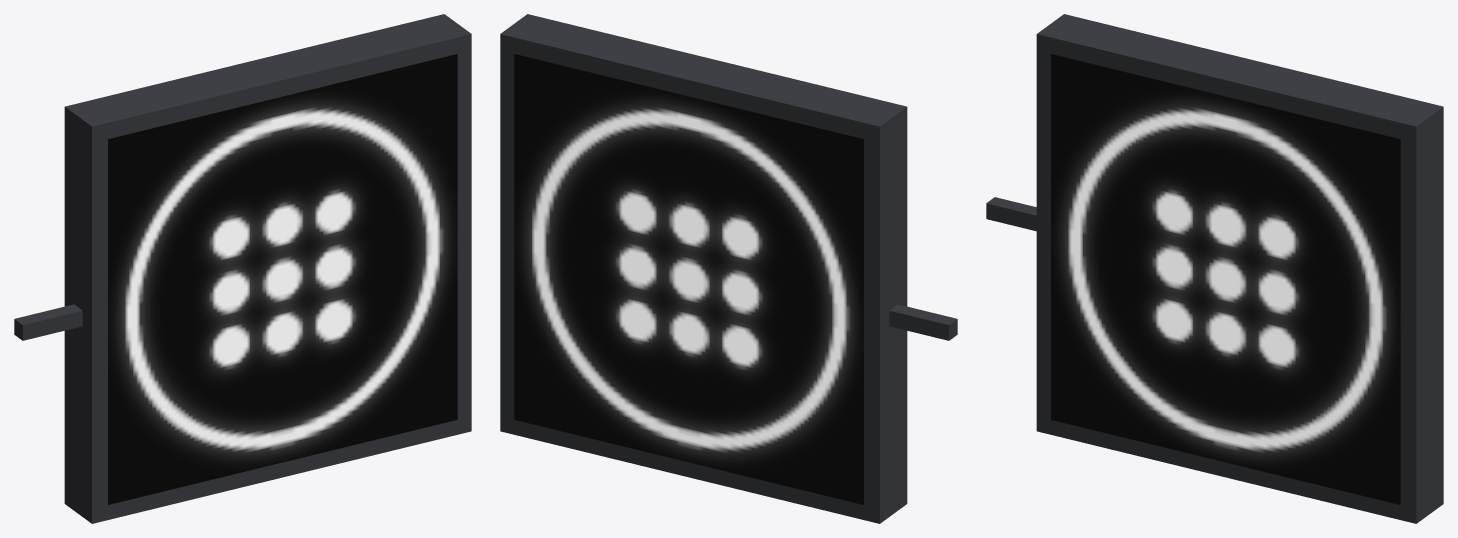
File: sign_roundel_1.gltf
3 renders of one model, left to right at view 1: azimuth 30°, elevation 25°; view 2: azimuth 150°, elevation 25°; view 3: azimuth 330°, elevation 25°, orthographic.
Parts seen in each view (by area): view 1: sign_roundel_1; view 2: sign_roundel_1; view 3: sign_roundel_1.
Part boxes in pixels (bbox=[...]): sign_roundel_1: bbox=[14, 14, 471, 523]; sign_roundel_1: bbox=[500, 14, 957, 523]; sign_roundel_1: bbox=[986, 14, 1443, 523].
Size of the model in its own units: 1.76 by 1.52 by 0.2.
2 materials, 1 textured.
